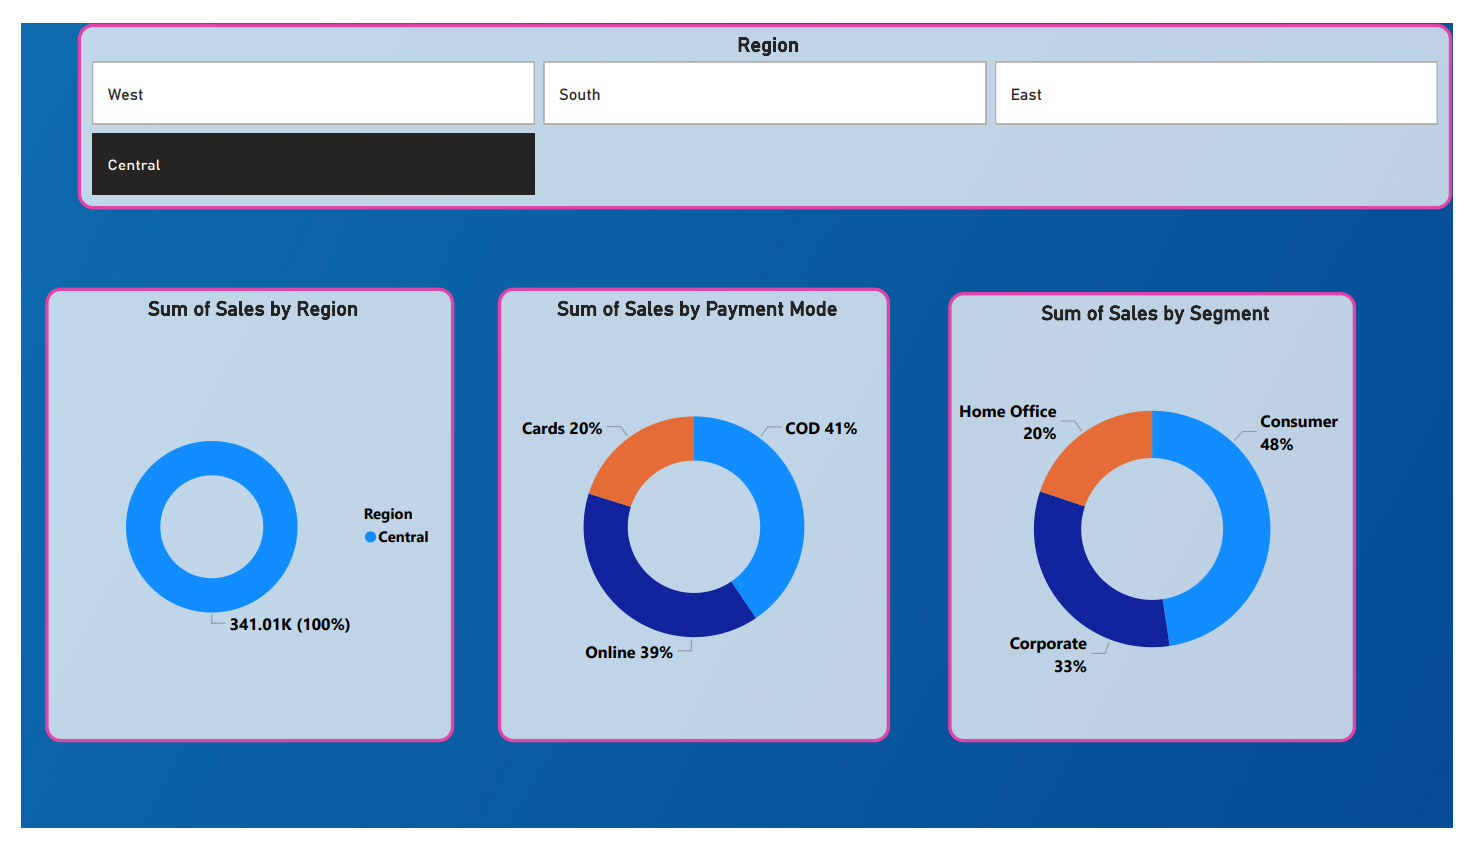

This screenshot's page, from the dashboard's own definition file:
{"tool":"powerbi","page":{"name":"Page 3","canvas":[1280,720],"ordinal":2},"visuals":[{"type":"donutChart","fields":{"Y":["Sum(SuperStore_Sales_Dataset.Sales)"],"Category":["SuperStore_Sales_Dataset.Region"]},"box":[21.4,237.1,365.7,407.1],"z":0},{"type":"donutChart","fields":{"Category":["SuperStore_Sales_Dataset.Segment"],"Y":["Sum(SuperStore_Sales_Dataset.Sales)"]},"box":[828.6,241.4,365.7,402.9],"z":1000},{"type":"donutChart","fields":{"Category":["SuperStore_Sales_Dataset.Payment Mode"],"Y":["Sum(SuperStore_Sales_Dataset.Sales)"]},"box":[425.7,237.1,351.4,407.1],"z":2000},{"type":"advancedSlicerVisual","fields":{"Values":["SuperStore_Sales_Dataset.Region"]},"box":[50,0,1230,167.1],"z":3000}]}

Visuals, with their boxes in screenshot pixels (x1, y1, x2, y2), scaled from the page's 1280x720 canvas onto the 1476x853 screenshot:
donutChart - Sum(SuperStore_Sales_Dataset.Sales) x SuperStore_Sales_Dataset.Region: select_region(25, 281, 446, 763)
donutChart - SuperStore_Sales_Dataset.Segment x Sum(SuperStore_Sales_Dataset.Sales): select_region(955, 286, 1377, 763)
donutChart - SuperStore_Sales_Dataset.Payment Mode x Sum(SuperStore_Sales_Dataset.Sales): select_region(491, 281, 896, 763)
advancedSlicerVisual - SuperStore_Sales_Dataset.Region: select_region(58, 0, 1475, 198)
